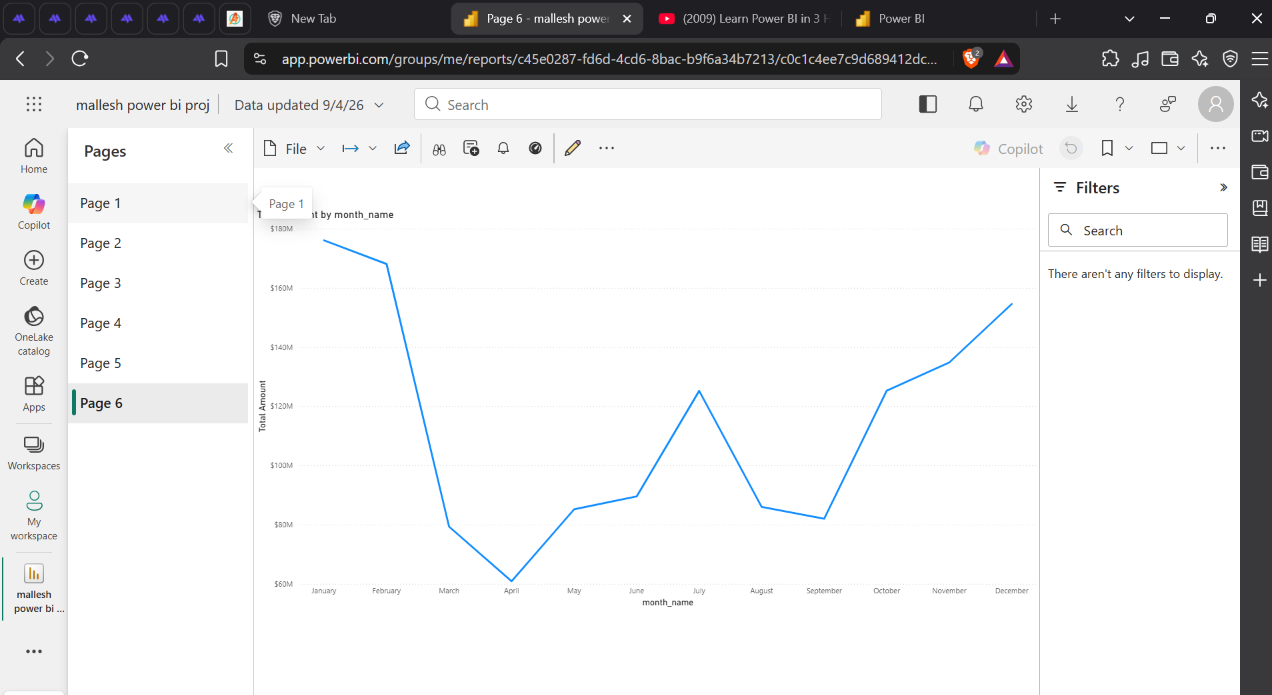

This screenshot's page, from the dashboard's own definition file:
{"tool":"powerbi","page":{"name":"Page 6","canvas":[1280,720],"ordinal":5},"visuals":[{"type":"lineChart","fields":{"Category":["calendar.month_name"],"Y":["shipments.Total Amount"]},"box":[0,65,1280,655],"z":0}]}

Visuals, with their boxes in screenshot pixels (x1, y1, x2, y2):
lineChart - calendar.month_name x shipments.Total Amount: <region>17, 75, 1236, 694</region>
